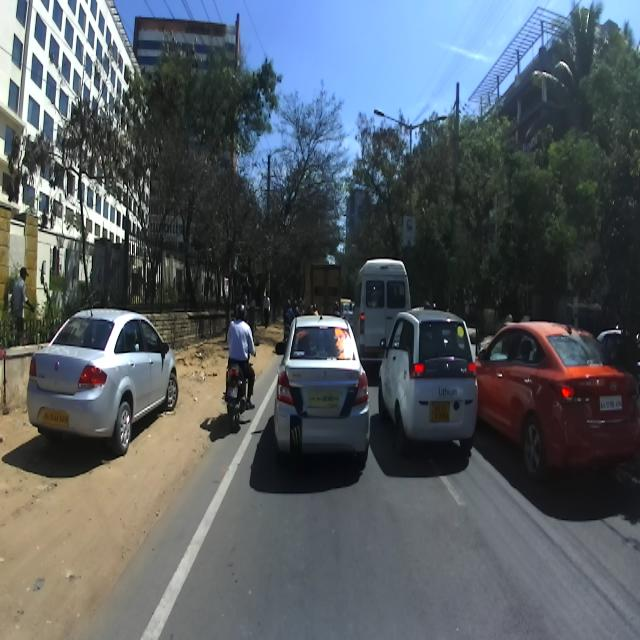car ahead at: (482, 313, 640, 485), (25, 303, 181, 447), (275, 310, 373, 459), (386, 306, 480, 452)
motorcycle ahead at: (218, 354, 255, 426)
